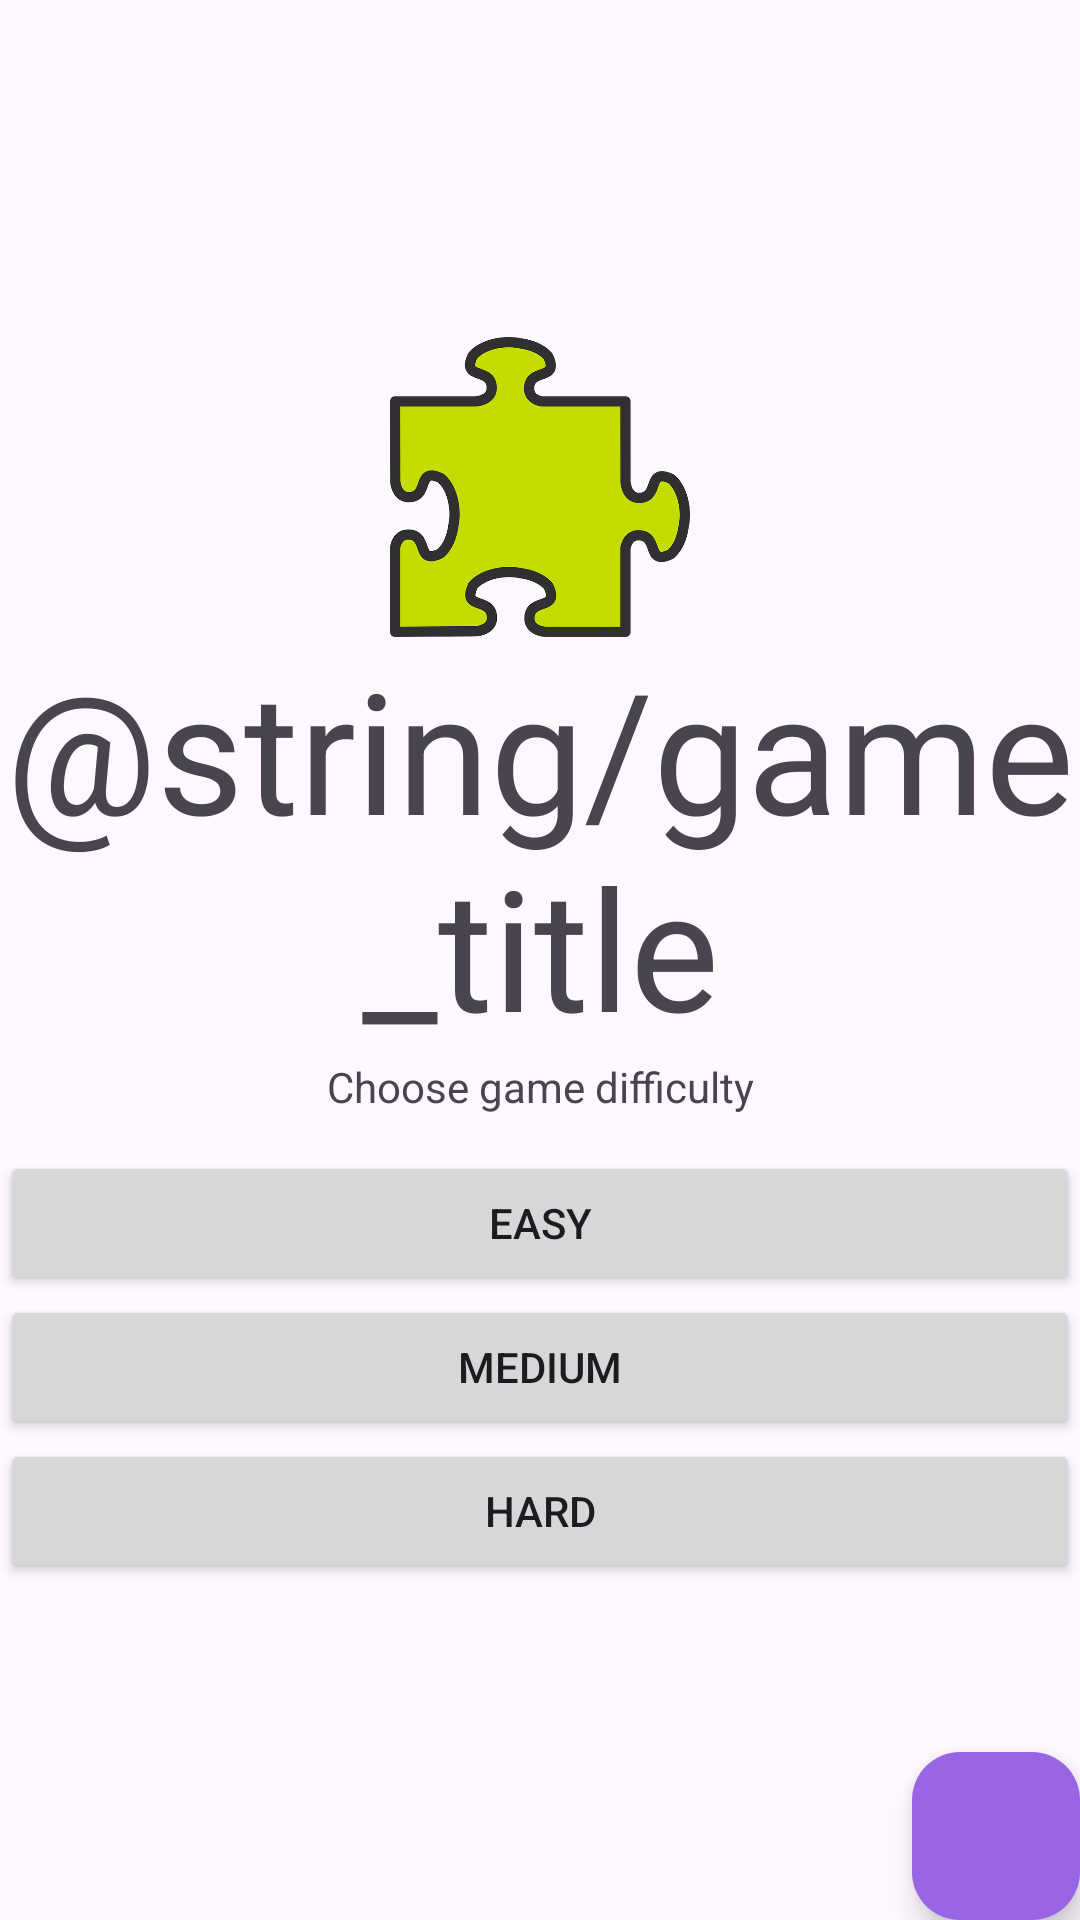

Where icons sit on this 1080×1920 app screen, as (x1, y1, x2, y2):
puzzle: (390, 337, 690, 637)
